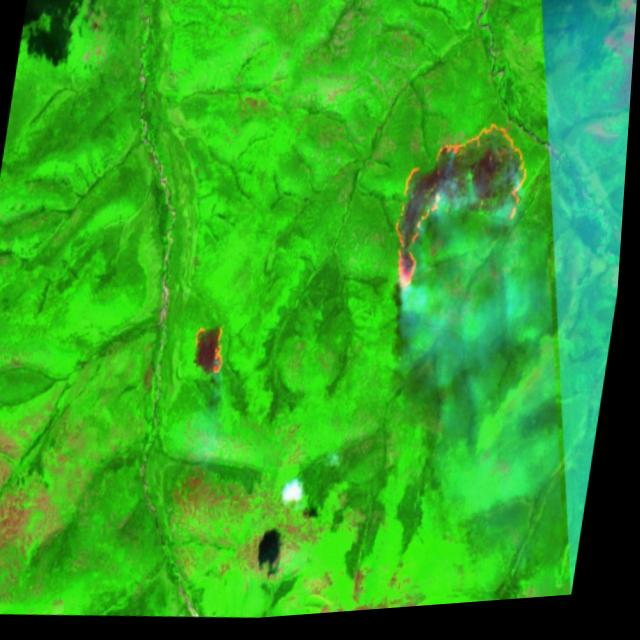fire: (381, 118, 540, 310), (190, 319, 238, 385)
